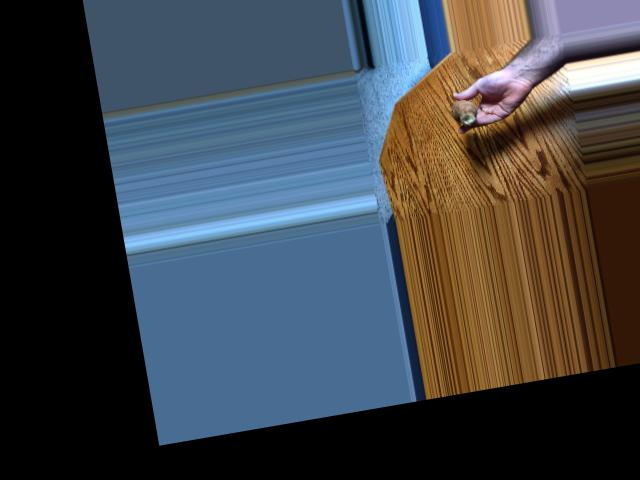sweet_potato: (447, 97, 478, 126)
